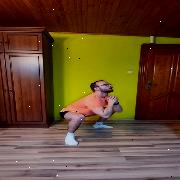squats: (51, 69, 138, 146)
